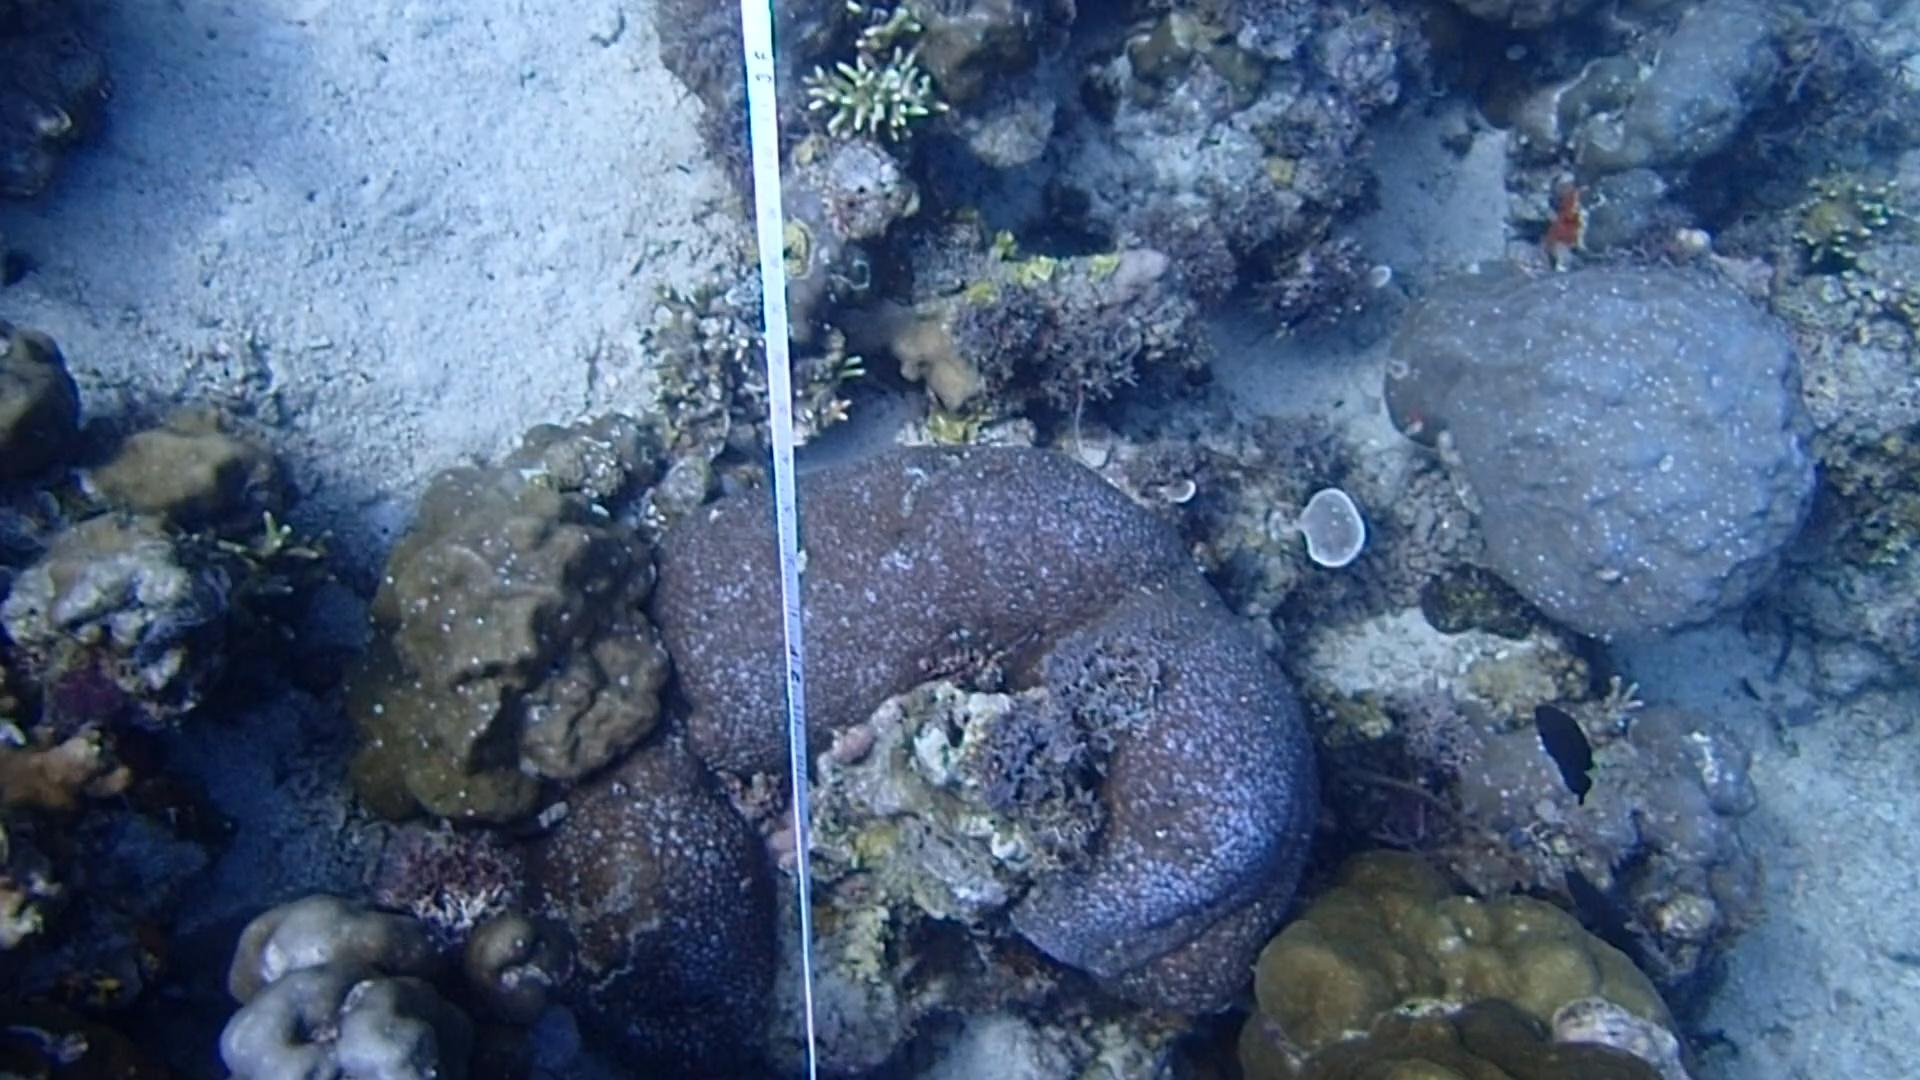Dark Fish: (1524, 694, 1604, 802)
